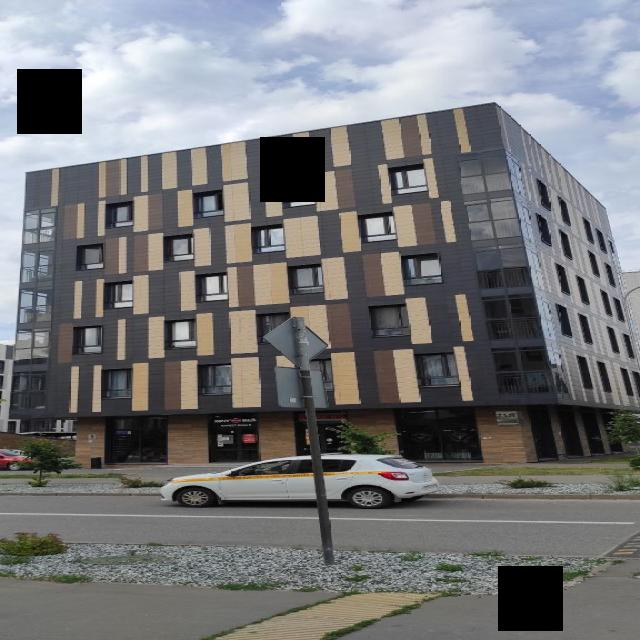Building: (7, 104, 640, 468)
